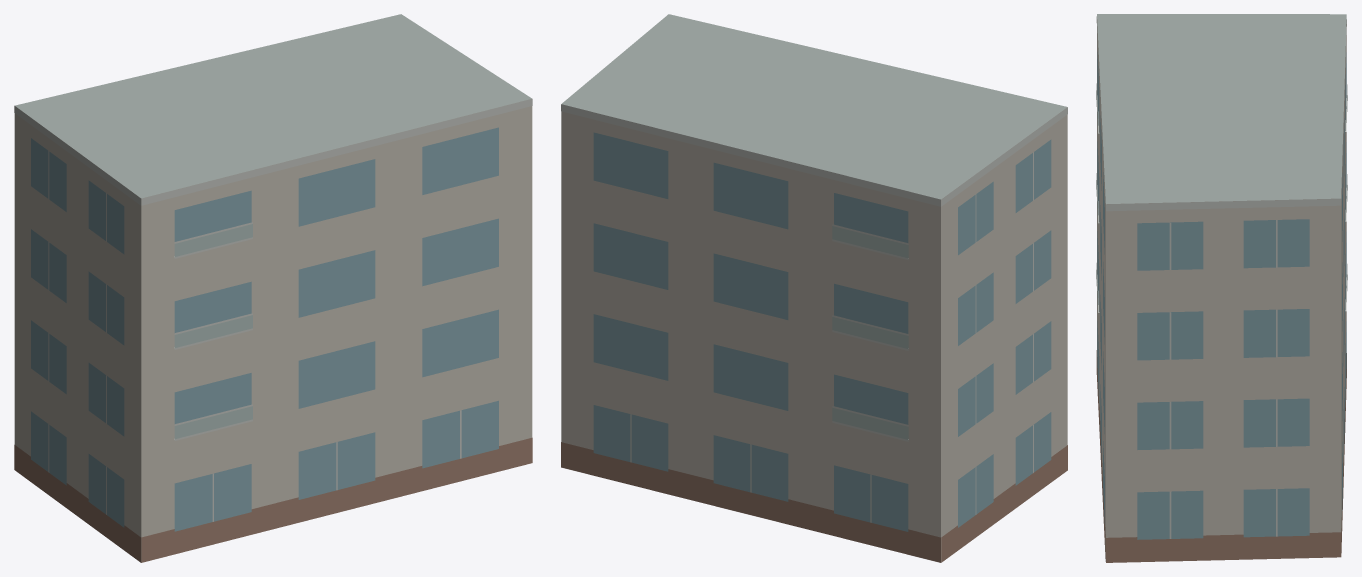
File: survey-upis-32643960.glb
3 views of the same model, side by side, from view 1: azimuth 30°, elevation 25°; view 2: azimuth 150°, elevation 25°; view 3: azimuth 270°, elevation 25° (orthographic).
Parts seen in each view (by area): view 1: survey-upis-32643960.tmp; view 2: survey-upis-32643960.tmp; view 3: survey-upis-32643960.tmp.
Part boxes in pixels (x1=…): survey-upis-32643960.tmp: x1=14, y1=14, x2=532, y2=562; survey-upis-32643960.tmp: x1=561, y1=14, x2=1067, y2=562; survey-upis-32643960.tmp: x1=1096, y1=14, x2=1347, y2=562.
Size of the model in its own units: 13.88 by 12.2 by 7.74.
